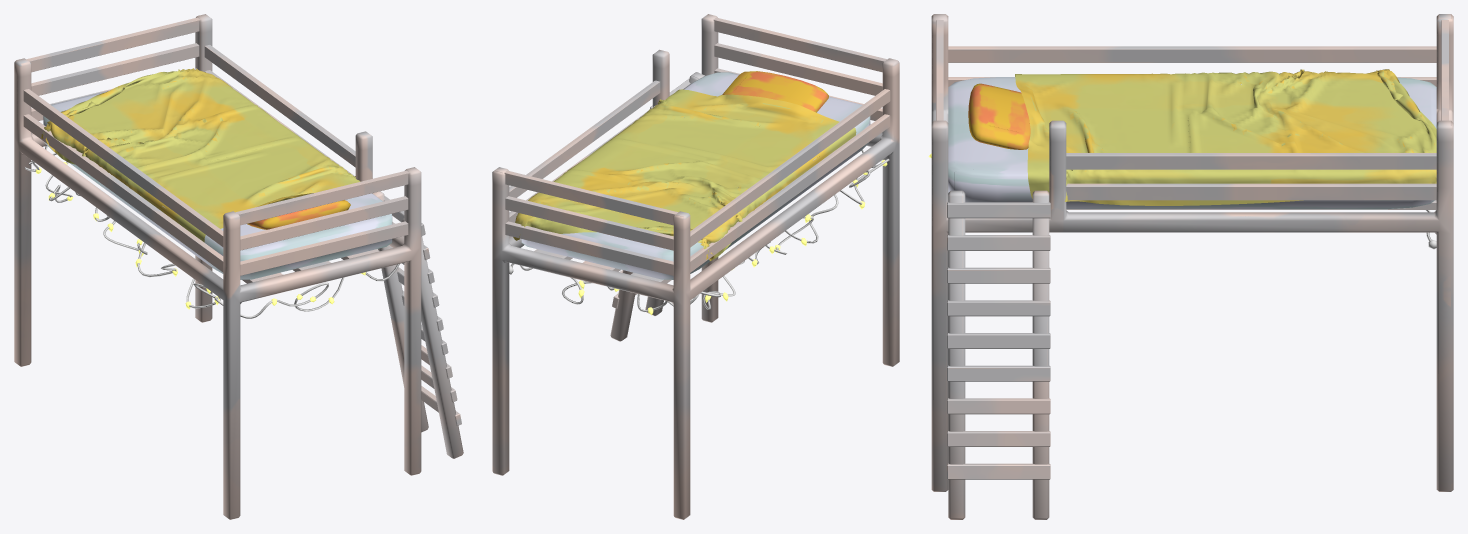
Rendered from Bunk-Bed-colored.fbx.
3 renders of one model, left to right at view 1: azimuth 30°, elevation 25°; view 2: azimuth 150°, elevation 25°; view 3: azimuth 270°, elevation 25°, orthographic. The views are drawn at different scales.
Parts seen in each view (by area): view 1: frame, blanket, mattress, lights, pillow; view 2: frame, blanket, mattress, pillow, lights; view 3: frame, blanket, mattress, pillow.
Boxes of the visible parts, x1=… form: frame: x1=14, y1=14, x2=463, y2=519; blanket: x1=41, y1=68, x2=360, y2=242; mattress: x1=43, y1=90, x2=392, y2=279; lights: x1=25, y1=145, x2=399, y2=318; pillow: x1=247, y1=200, x2=350, y2=229; frame: x1=492, y1=14, x2=899, y2=519; blanket: x1=513, y1=89, x2=856, y2=261; mattress: x1=521, y1=72, x2=870, y2=279; pillow: x1=722, y1=71, x2=828, y2=112; lights: x1=509, y1=149, x2=889, y2=315; frame: x1=931, y1=14, x2=1453, y2=519; blanket: x1=1015, y1=69, x2=1436, y2=205; mattress: x1=948, y1=77, x2=1436, y2=209; pillow: x1=968, y1=83, x2=1030, y2=149.
Bounding box in the file's own units: 4.14 × 4.81 × 6.24.
